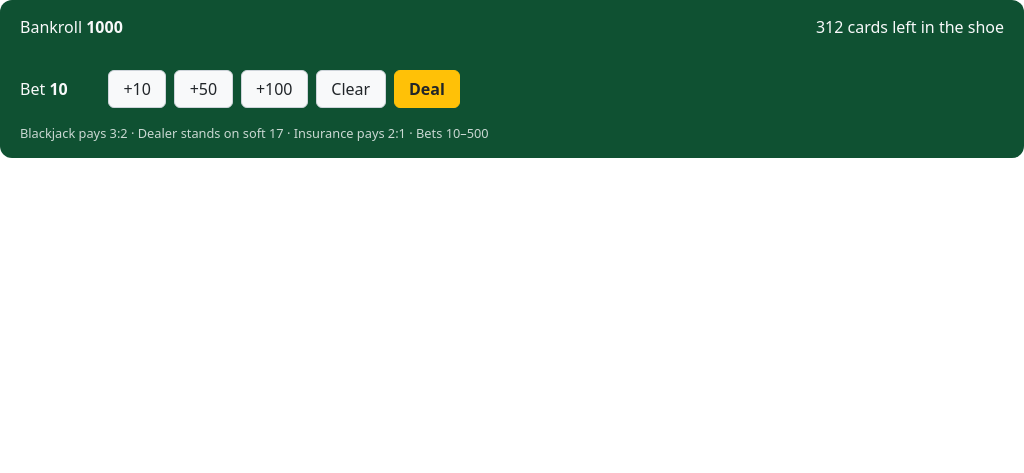
Test: GamePage › deals a hand with the dealer hole card face down
Click the button "Deal": (427, 89) [394, 70, 460, 108]
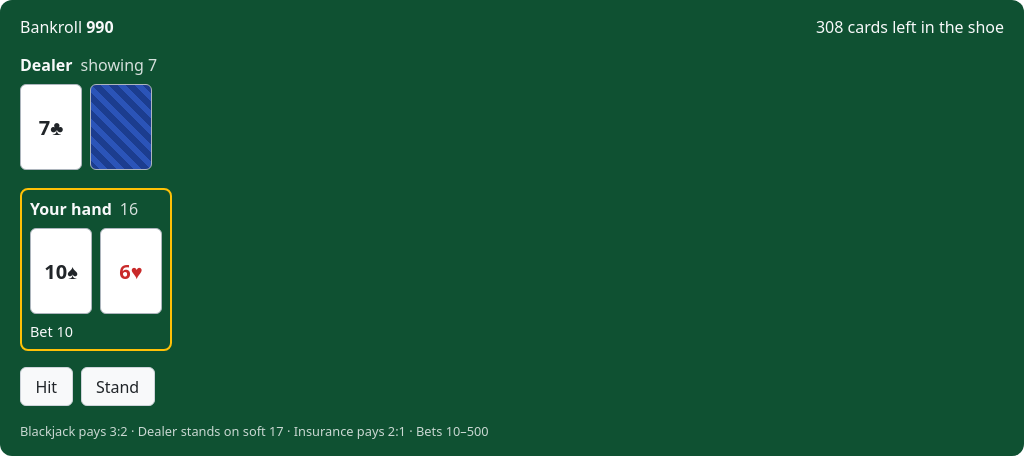
Now the picture named "Face-down card" is shown, box [90, 84, 152, 170]
Now the text "showing 7" is shown, box [81, 54, 157, 76]
